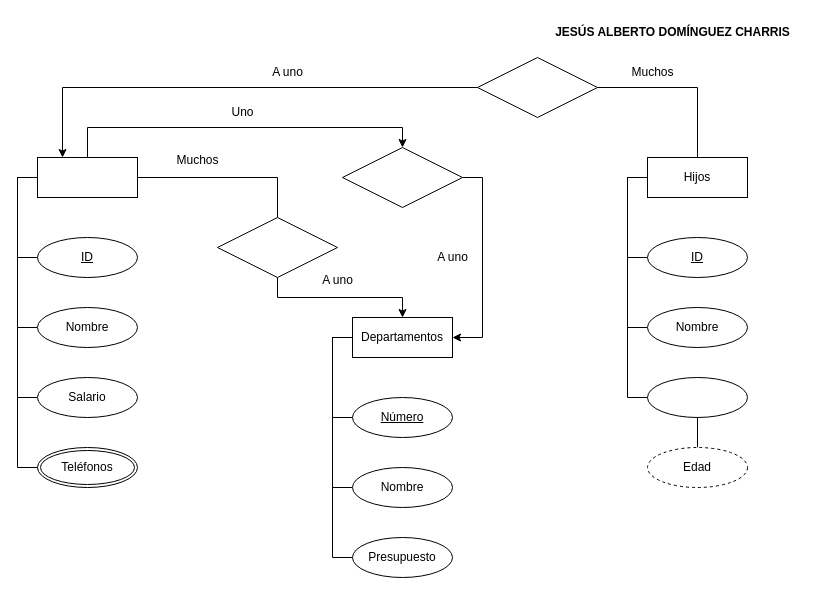
Image size: 820x595. Some labels were removed from this diagram. The shapes that lost their labels are listed below. From the top down, each one's box as (x1, y1, x2, y2) in pixels, then its label:
(476, 56, 598, 118): Engendrar
(36, 156, 138, 198): Empleados
(342, 146, 462, 208): Asignar
(216, 216, 338, 278): Administrar
(646, 376, 748, 418): Fecha nacimiento
